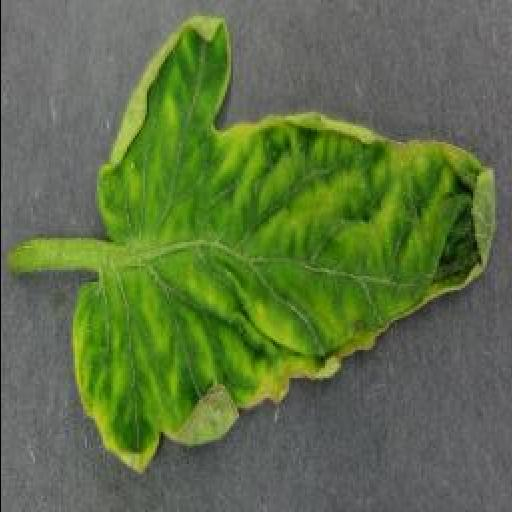disease_tomato: (65, 20, 499, 478)
